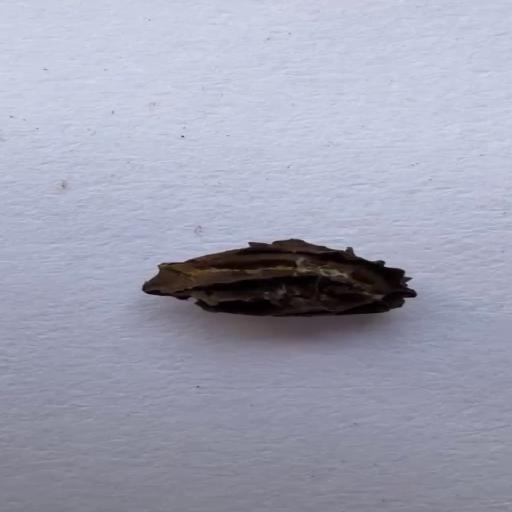papaya_seed: (102, 221, 426, 338)
